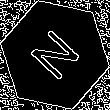N_SE: (24, 23, 86, 87)
